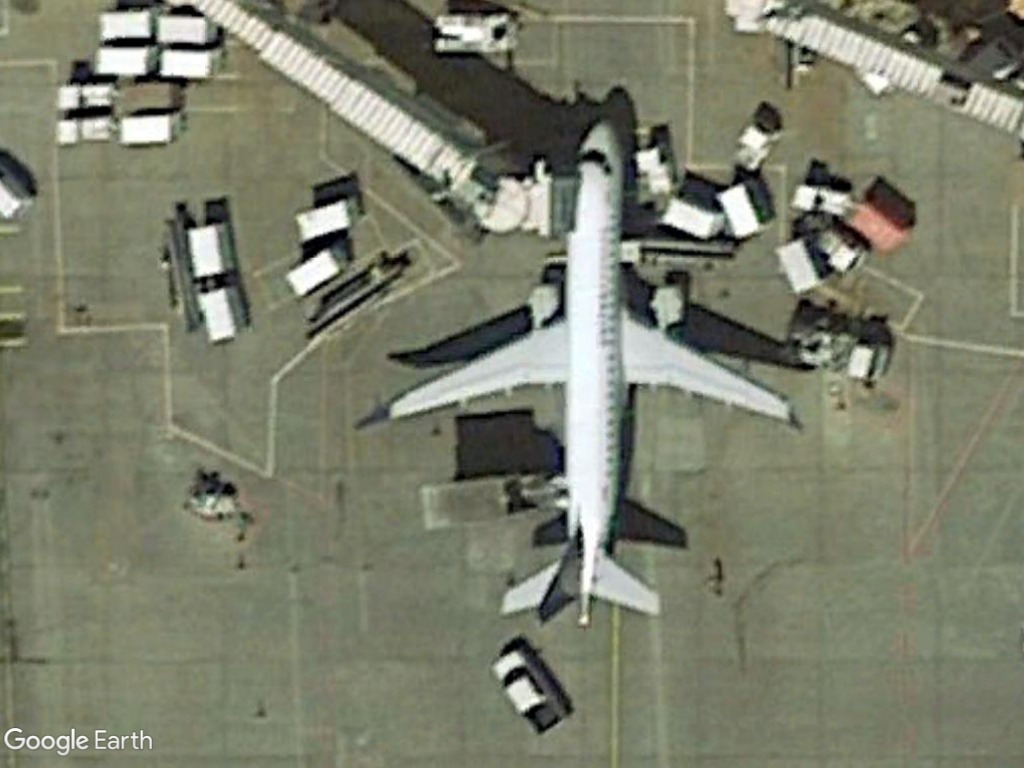airliner: (365, 117, 807, 641)
other: (489, 643, 570, 745)
pushbacktruck: (427, 9, 522, 58)
